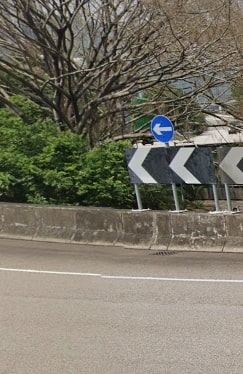Turn Left: (147, 112, 177, 144)
Turn Left(quick): (119, 144, 213, 186)
